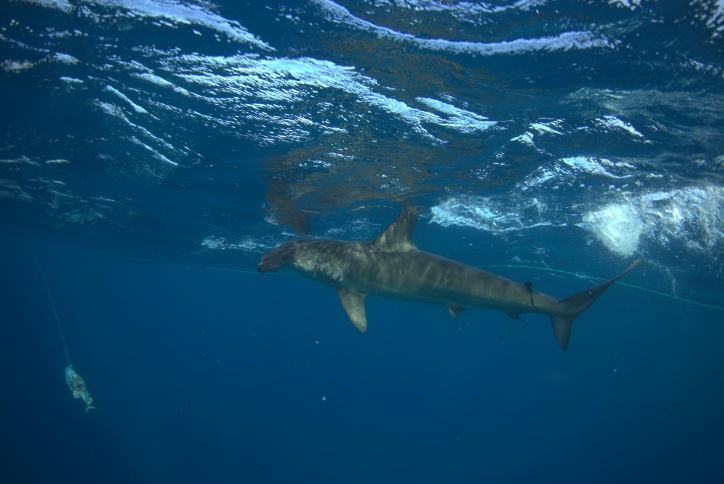Hammer: (252, 204, 661, 424)
